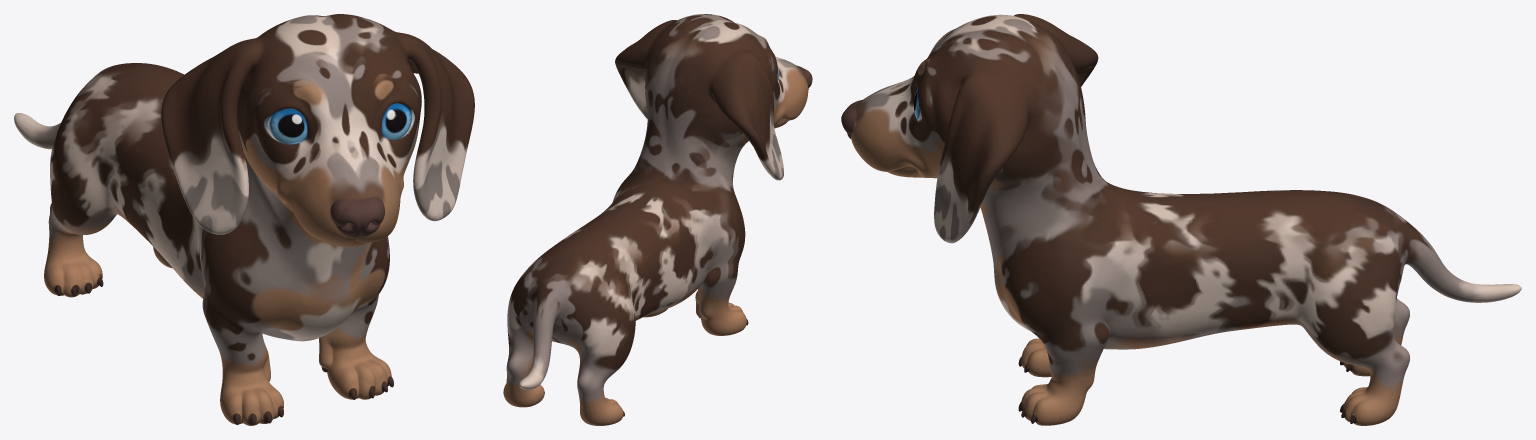
Rendered from sasha.glb.
3 views of the same model, side by side, from view 1: azimuth 30°, elevation 25°; view 2: azimuth 150°, elevation 25°; view 3: azimuth 270°, elevation 25° (orthographic). The views are drawn at different scales.
Size of the model in its own units: 0.751 by 1.12 by 1.9.
1 material, 1 textured.
